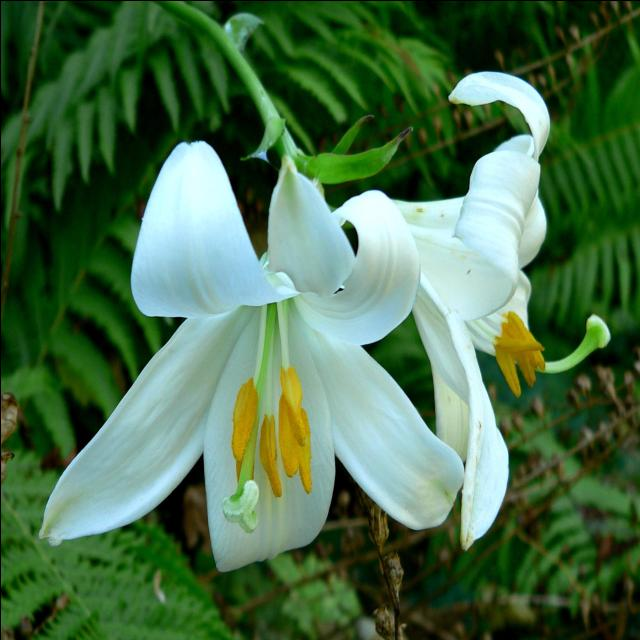lily: (52, 148, 446, 566)
